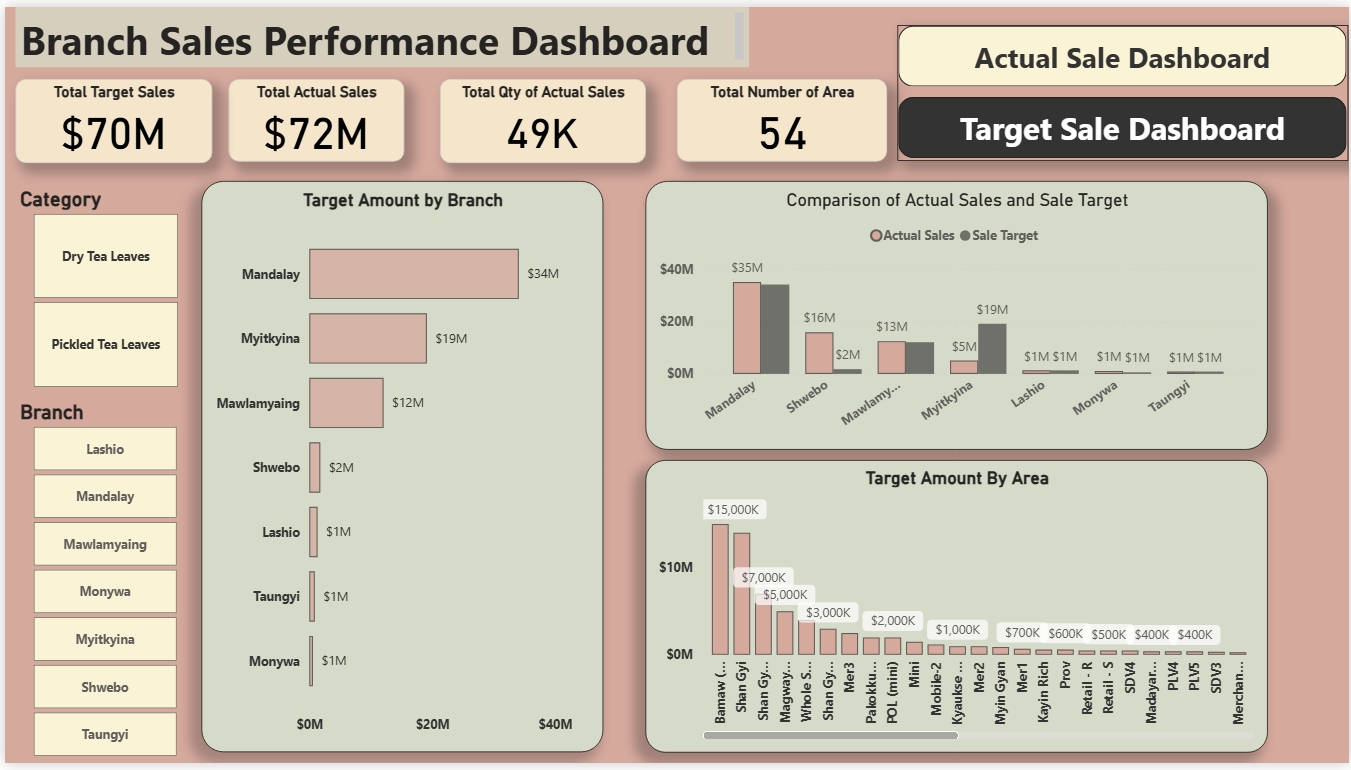

The dashboard page shown, as its layout file describes it:
{"tool":"powerbi","page":{"name":"Target Sale Dashboard","canvas":[1280,720],"ordinal":1},"visuals":[{"type":"card","title":"Total Actual Sales","fields":{"Values":["Measurement.Total Sales"]},"box":[212.9,68.6,167.1,78.6],"z":0},{"type":"clusteredBarChart","title":"Target Amount by Branch","fields":{"Category":["Branch.Branch"],"Y":["Sum(SaleTargetAmount.Target Amount)"]},"box":[187.1,165.7,382.9,544.3],"z":1000},{"type":"clusteredColumnChart","title":"Comparison of Actual Sales and Sale Target","fields":{"Y":["Measurement.Total Sales","Sum(SaleTargetAmount.Target Amount)"],"Category":["Branch.Branch"]},"box":[610,165.7,592.9,255.7],"z":2000},{"type":"slicer","fields":{"Values":["Branch.Branch"]},"box":[1.4,368.6,185.7,351.4],"z":3000},{"type":"lineStackedColumnComboChart","title":"Target Amount By Area","fields":{"Y":["Sum(SaleTargetAmount.Target Amount)"],"Category":["SaleTargetAmount.Area"]},"box":[610,431.4,592.9,278.6],"z":4000},{"type":"card","title":"Total Qty of Actual Sales","fields":{"Values":["Sum(SaleDB2024.Qty)"]},"box":[414.3,68.6,195.7,80],"z":5000},{"type":"card","title":"Total Target Sales","fields":{"Values":["Measurement.Targetsale"]},"box":[10,68.6,187.1,80],"z":6000},{"type":"card","title":"Total Number of Area","fields":{"Values":["Count(SaleDB2024.Area)"]},"box":[640,68.6,200,78.6],"z":7000},{"type":"slicer","fields":{"Values":["SaleDB2024.Category"]},"box":[1.4,165.7,187.1,202.9],"z":8000},{"type":"textbox","box":[10,0,698.6,57.1],"z":9000},{"type":"pageNavigator","box":[850.5,17.4,429.5,129.5],"z":10000}]}

Visuals, with their boxes in screenshot pixels (x1, y1, x2, y2), scaled from the page's 1280x720 canvas onto the 1351x770 screenshot:
"Total Actual Sales" card: (225,73,401,157)
"Target Amount by Branch" clusteredBarChart: (197,177,602,759)
"Comparison of Actual Sales and Sale Target" clusteredColumnChart: (644,177,1270,451)
slicer - Branch.Branch: (1,394,197,769)
"Target Amount By Area" lineStackedColumnComboChart: (644,461,1270,759)
"Total Qty of Actual Sales" card: (437,73,644,159)
"Total Target Sales" card: (11,73,208,159)
"Total Number of Area" card: (676,73,887,157)
slicer - SaleDB2024.Category: (1,177,199,394)
textbox: (11,0,748,61)
pageNavigator: (898,19,1350,157)
